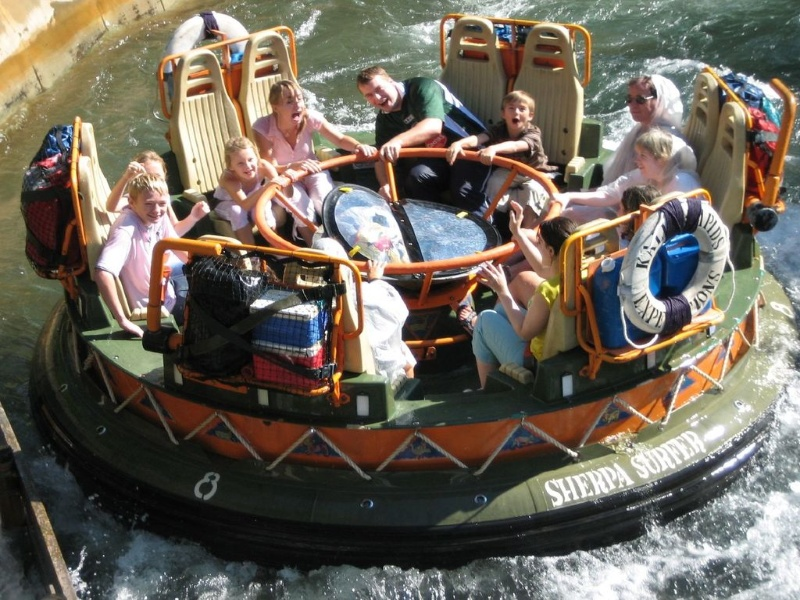person: (354, 63, 483, 160), (612, 131, 698, 275), (507, 201, 578, 359), (115, 171, 182, 320), (262, 78, 333, 193), (490, 77, 551, 191), (216, 121, 283, 223), (615, 71, 681, 134), (128, 145, 168, 181)
